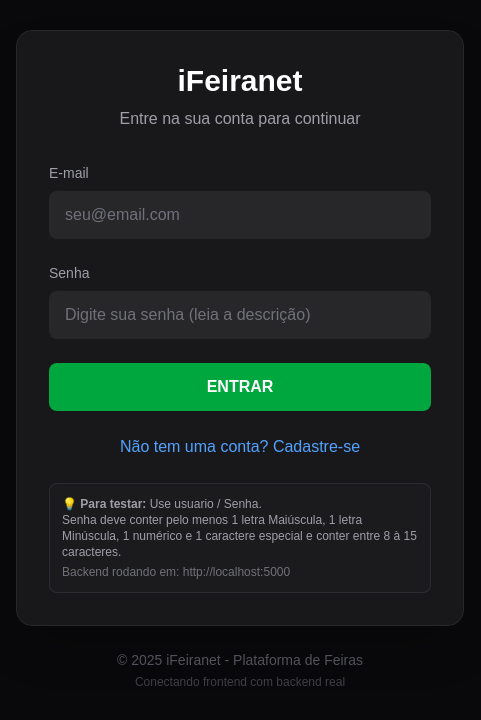
Login Component › Test 7: Show error for short password
The image size is (481, 720).
In the password field with placeholder "Digite sua senha (leia a descrição)": (240, 315) [49,291,431,339], type "123"
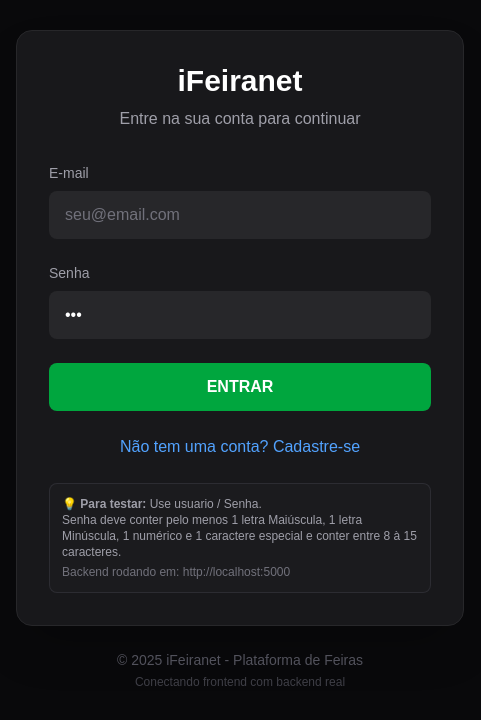
Click the button "ENTRAR": (240, 387) [49,363,431,411]
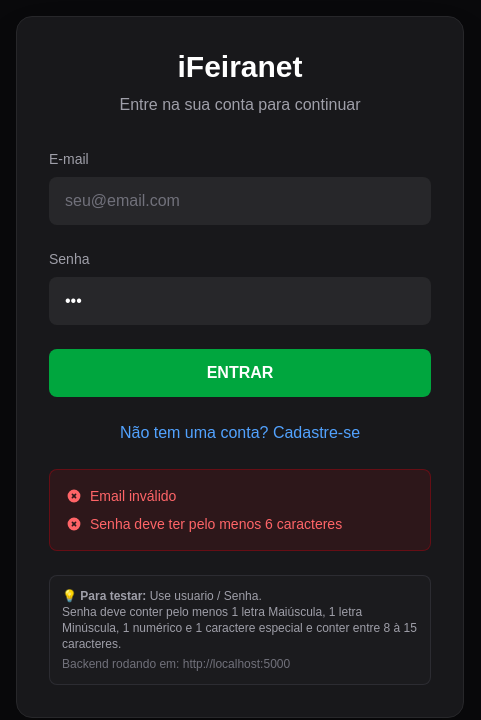
Result: the text "Senha deve ter pelo menos 6 caracteres" is shown at [66,516,342,532]
